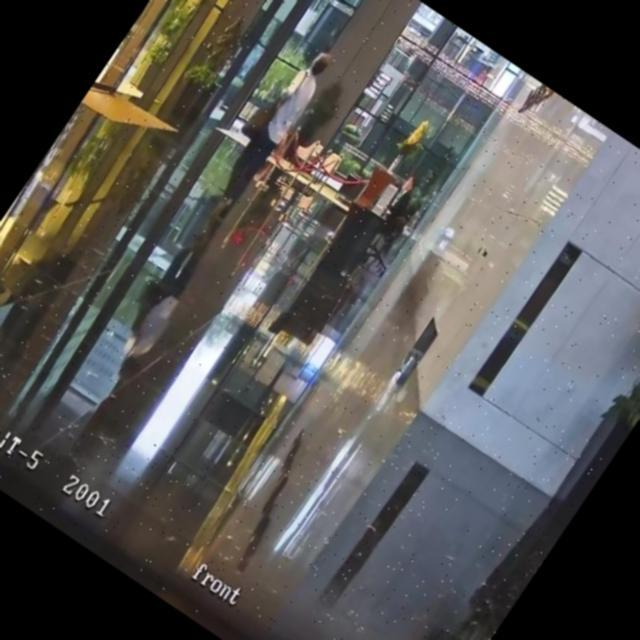person: (204, 44, 340, 226), (380, 172, 424, 228)
